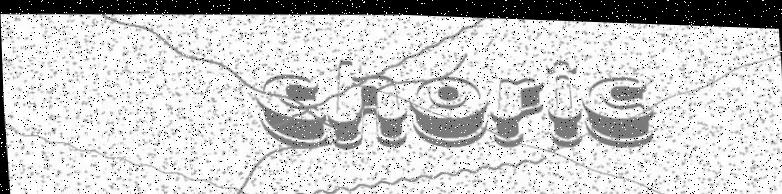c: (255, 70, 329, 148), (582, 70, 656, 143)
h: (324, 55, 409, 147)
i: (543, 55, 583, 143)
o: (408, 70, 490, 146)
r: (488, 71, 549, 144)
